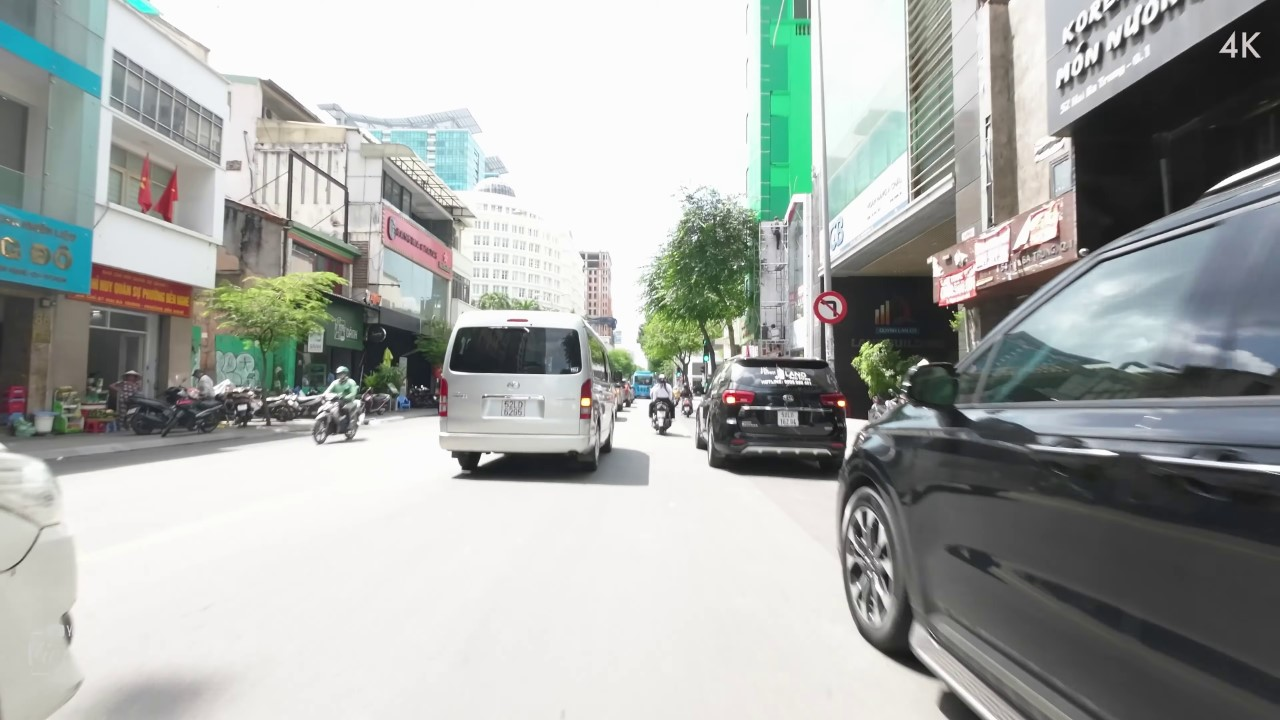cam_re_trai: (811, 288, 848, 325)
